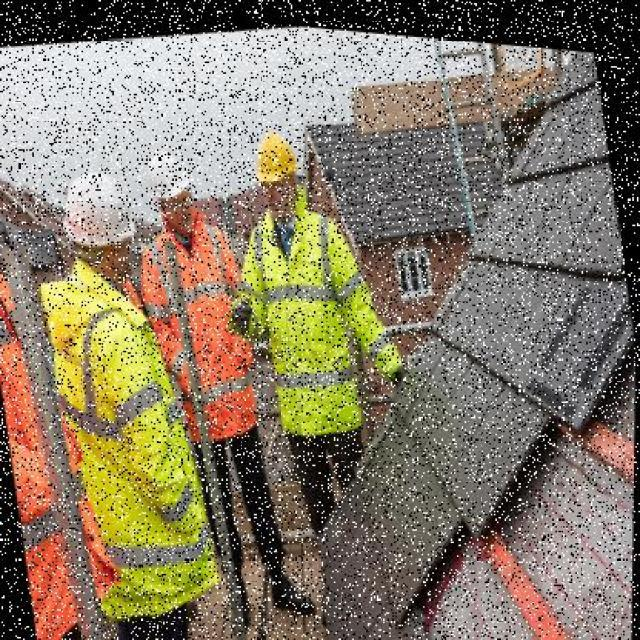helmet: (55, 165, 145, 259), (248, 122, 308, 197), (139, 142, 199, 206)
vest: (39, 269, 217, 631), (240, 197, 375, 443), (137, 220, 263, 447)
